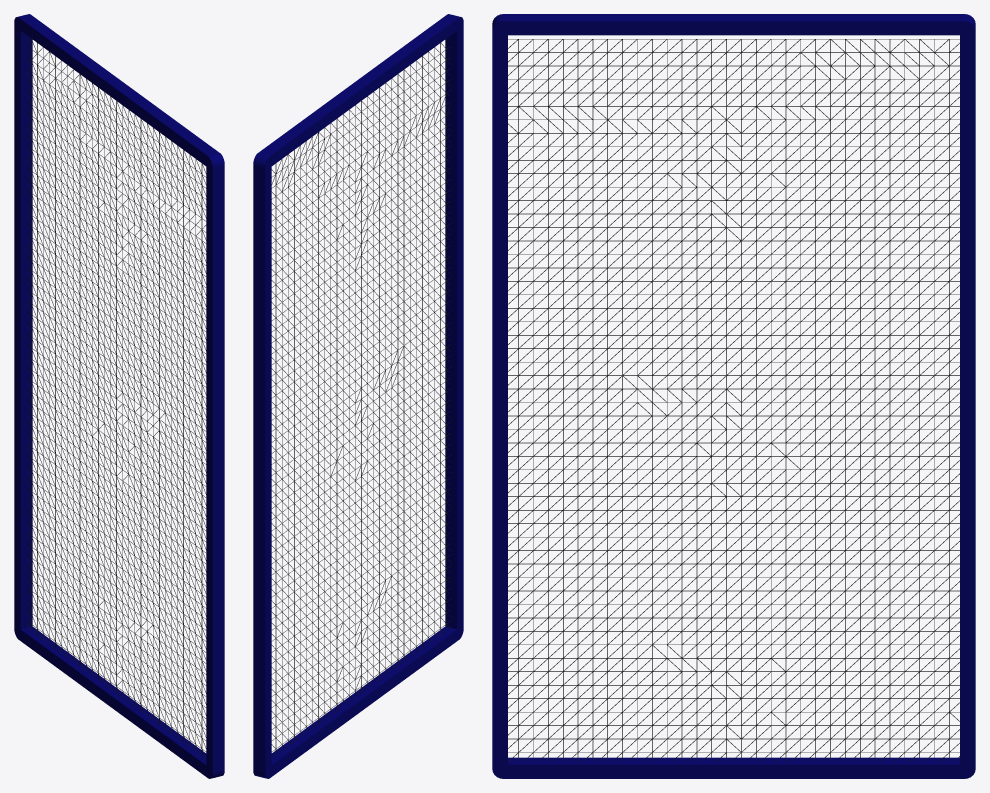
File: GameStage_1(WireMesh_Move).obj
3 renders of one model, left to right at view 1: azimuth 30°, elevation 25°; view 2: azimuth 150°, elevation 25°; view 3: azimuth 270°, elevation 25°, orthographic. The views are drawn at different scales.
Parts seen in each view (by area): view 1: 平面, 平面.001; view 2: 平面, 平面.001; view 3: 平面, 平面.001.
Boxes of the visible parts, <box> form: 平面: <box>26,38,206,758</box>; 平面.001: <box>14,14,224,778</box>; 平面: <box>271,38,451,757</box>; 平面.001: <box>253,14,463,778</box>; 平面: <box>508,39,959,761</box>; 平面.001: <box>492,14,975,778</box>.
Size of the model in its own units: 0.1391 by 6.8 by 3.93.
